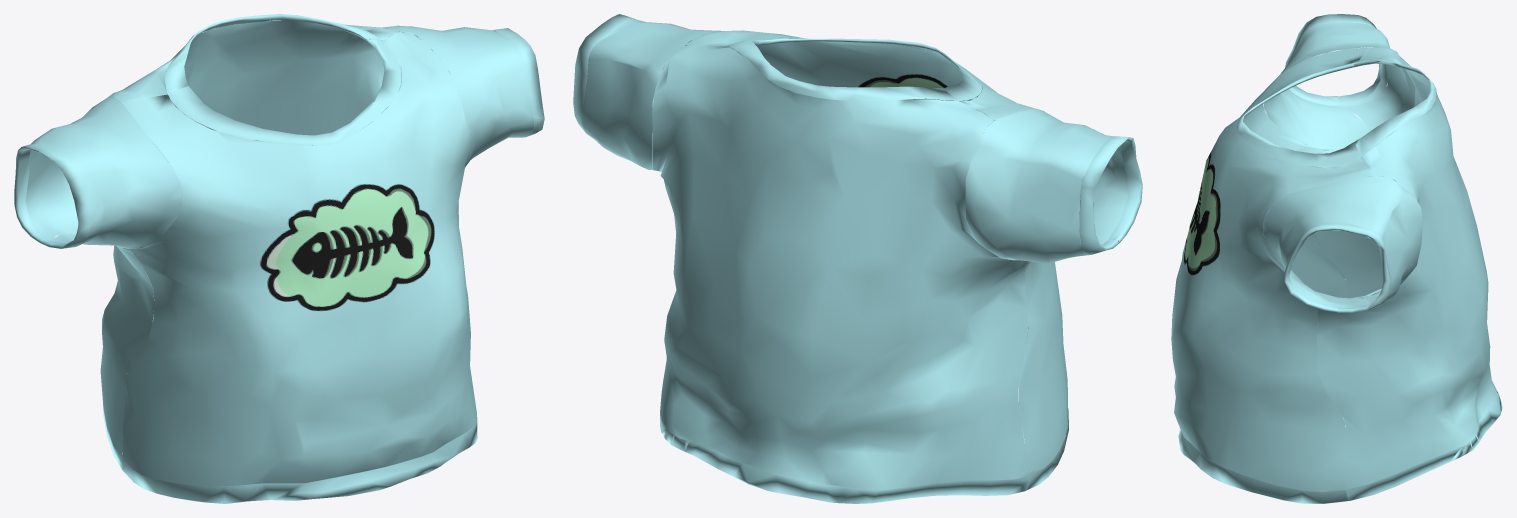
The model's file is T-Shirt-Blue-Fishy.glb.
The picture shows the model from 3 angles, left to right: view 1: azimuth 30°, elevation 25°; view 2: azimuth 150°, elevation 25°; view 3: azimuth 270°, elevation 25°; orthographic projection. The views are drawn at different scales.
Visible parts, largest first — view 1: T-Shirt-Blue-Fishy; view 2: T-Shirt-Blue-Fishy; view 3: T-Shirt-Blue-Fishy.
Part boxes in pixels (x1,y1,x2,y2): T-Shirt-Blue-Fishy: (14, 14, 544, 503); T-Shirt-Blue-Fishy: (573, 14, 1142, 503); T-Shirt-Blue-Fishy: (1171, 14, 1502, 503).
Size of the model in its own units: 0.5125 by 0.384 by 0.3311.
1 material, 1 textured.
